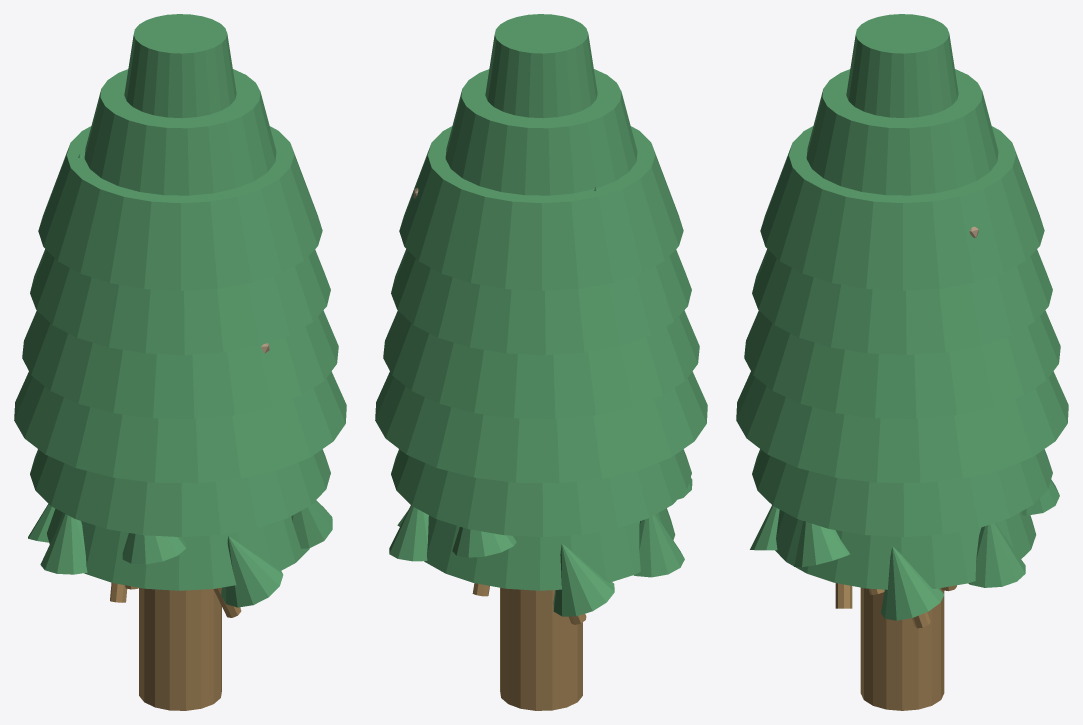
Rendered from pine.glb.
3 views of the same model, side by side, from view 1: azimuth 30°, elevation 25°; view 2: azimuth 150°, elevation 25°; view 3: azimuth 270°, elevation 25° (orthographic).
Visible parts, largest first — view 1: PineMature_layer_6, PineMature_layer_3, PineMature_layer_4, PineMature_layer_5, PineMature_layer_7, PineMature_layer_2, PineMature_layer_8, PineMature_trunk, PineMature_layer_1, PineMature_needles_cluster_7, PineMature_needles_cluster_5, PineMature_needles_cluster_6 (+2 smaller); view 2: PineMature_layer_6, PineMature_layer_3, PineMature_layer_4, PineMature_layer_5, PineMature_layer_7, PineMature_layer_2, PineMature_layer_8, PineMature_layer_1, PineMature_trunk, PineMature_needles_cluster_4, PineMature_needles_cluster_5, PineMature_needles_cluster_2 (+1 smaller); view 3: PineMature_layer_6, PineMature_layer_3, PineMature_layer_4, PineMature_layer_5, PineMature_layer_7, PineMature_layer_2, PineMature_layer_8, PineMature_layer_1, PineMature_trunk, PineMature_needles_cluster_1, PineMature_needles_cluster_2, PineMature_needles_cluster_8 (+2 smaller).
Boxes of the visible parts, box(x1,y1,x2,y2) form: PineMature_layer_6: box(38, 126, 322, 290); PineMature_layer_3: box(14, 371, 346, 483); PineMature_layer_4: box(22, 310, 338, 419); PineMature_layer_5: box(30, 249, 330, 355); PineMature_layer_7: box(84, 69, 276, 195); PineMature_layer_2: box(30, 449, 330, 537); PineMature_layer_8: box(124, 14, 236, 118); PineMature_trunk: box(139, 588, 221, 710); PineMature_layer_1: box(47, 508, 309, 590); PineMature_needles_cluster_7: box(221, 536, 283, 607); PineMature_needles_cluster_5: box(40, 513, 87, 574); PineMature_needles_cluster_6: box(122, 533, 186, 564); PineMature_layer_6: box(399, 126, 683, 290); PineMature_layer_3: box(375, 371, 707, 483); PineMature_layer_4: box(383, 310, 699, 419); PineMature_layer_5: box(391, 249, 691, 355); PineMature_layer_7: box(445, 69, 637, 195); PineMature_layer_2: box(391, 449, 691, 537); PineMature_layer_8: box(485, 14, 597, 118); PineMature_layer_1: box(424, 508, 675, 590); PineMature_trunk: box(500, 587, 582, 710); PineMature_needles_cluster_4: box(553, 543, 614, 616); PineMature_needles_cluster_5: box(634, 514, 684, 577); PineMature_needles_cluster_2: box(389, 505, 428, 561); PineMature_layer_6: box(760, 126, 1044, 290); PineMature_layer_3: box(736, 371, 1068, 482); PineMature_layer_4: box(744, 310, 1060, 418); PineMature_layer_5: box(752, 249, 1052, 354); PineMature_layer_7: box(806, 69, 998, 195); PineMature_layer_2: box(752, 449, 1052, 536); PineMature_layer_8: box(846, 14, 958, 117); PineMature_layer_1: box(775, 510, 1036, 589); PineMature_trunk: box(860, 587, 944, 710); PineMature_needles_cluster_1: box(881, 546, 944, 620); PineMature_needles_cluster_2: box(968, 523, 1025, 587); PineMature_needles_cluster_8: box(794, 521, 849, 567).
Size of the model in its own units: 1.99 by 4.35 by 1.99.
